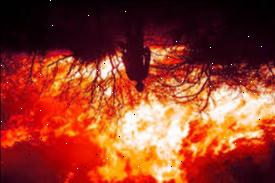fire: (56, 86, 275, 182), (18, 54, 122, 86), (150, 42, 187, 70)
